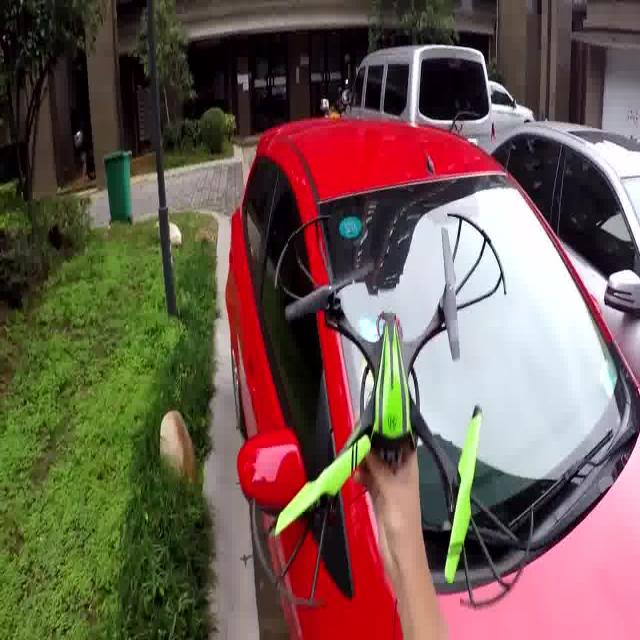drones: (248, 199, 540, 612)
